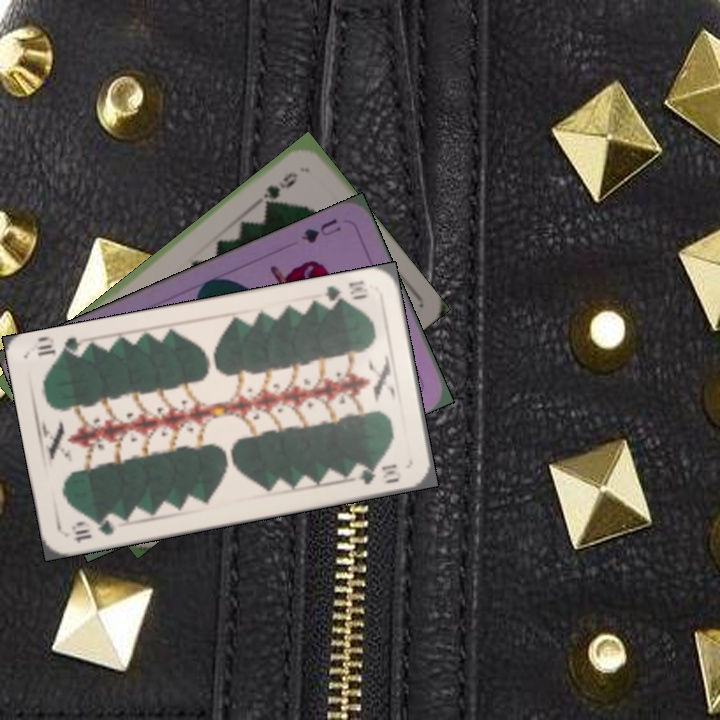G10: (316, 276, 369, 310), (67, 513, 118, 546)
G9: (259, 168, 300, 209)
GU: (297, 214, 344, 246)
